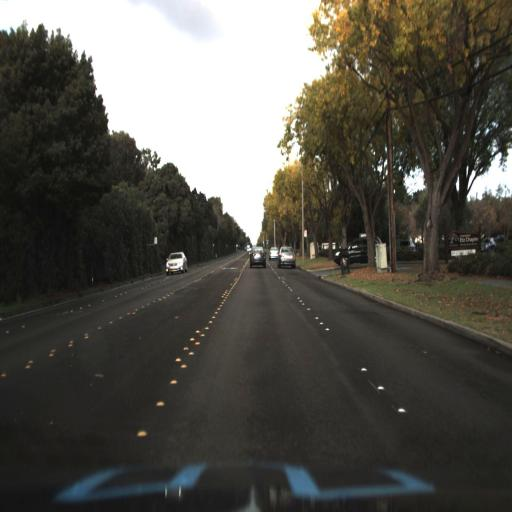car: (330, 224, 383, 266), (274, 240, 301, 274), (163, 248, 189, 281), (244, 243, 271, 273), (164, 248, 188, 280), (267, 241, 279, 260)
